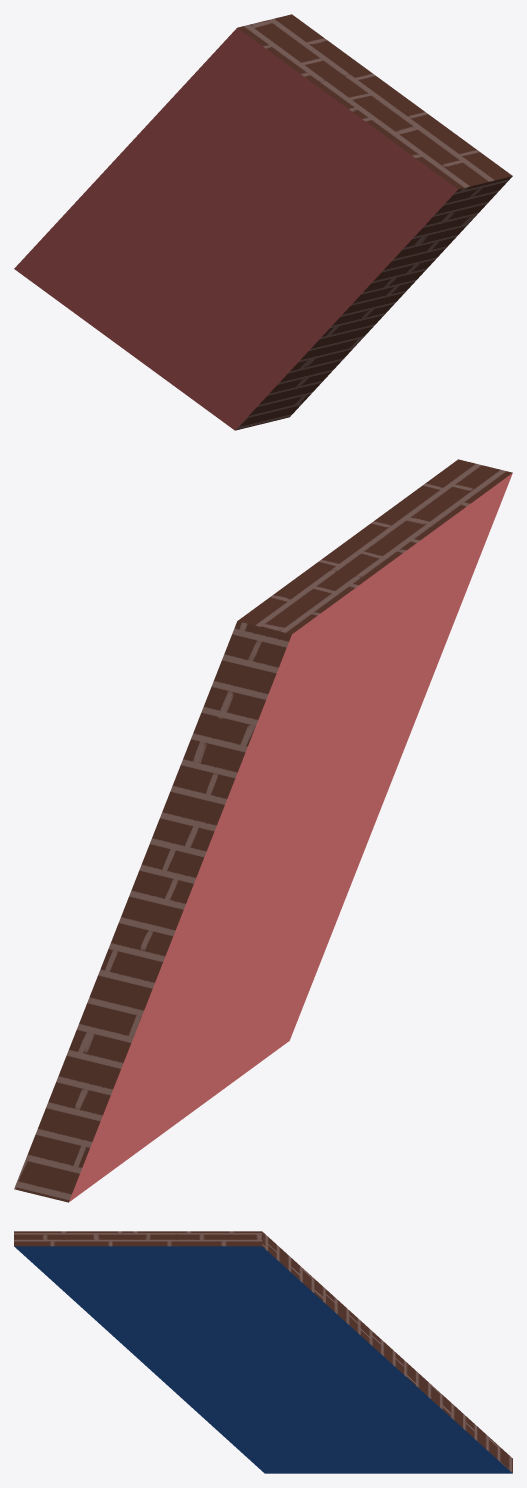
The model's file is wall4_5x.FBX.
3 views of the same model, one above another, from view 1: azimuth 30°, elevation 25°; view 2: azimuth 150°, elevation 25°; view 3: azimuth 270°, elevation 25° (orthographic). The views are drawn at different scales.
Visible parts, largest first — view 1: wall4_5x; view 2: wall4_5x; view 3: wall4_5x.
Boxes of the visible parts, <box> form: wall4_5x: <box>14,14,512,430</box>; wall4_5x: <box>14,459,512,1202</box>; wall4_5x: <box>14,1231,512,1473</box>.
Bounding box in the file's own units: 50 × 354 × 704.
3 materials, 1 textured.
